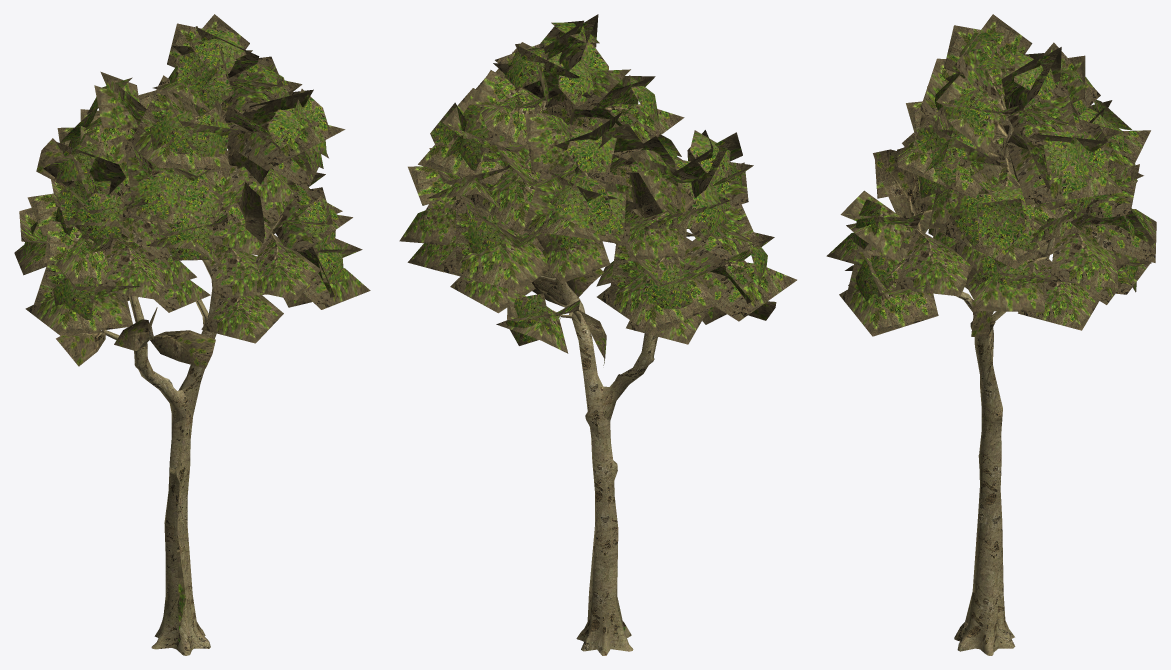
Rendered from Tree.FBX.
3 views of the same model, side by side, from view 1: azimuth 30°, elevation 25°; view 2: azimuth 150°, elevation 25°; view 3: azimuth 270°, elevation 25° (orthographic). The views are drawn at different scales.
Parts seen in each view (by area): view 1: LV_Campagna_Tree_BT08_03_PM_SMK; view 2: LV_Campagna_Tree_BT08_03_PM_SMK; view 3: LV_Campagna_Tree_BT08_03_PM_SMK.
Boxes of the visible parts, x1,y1,x2,y2 form: LV_Campagna_Tree_BT08_03_PM_SMK: (14,14,370,655); LV_Campagna_Tree_BT08_03_PM_SMK: (399,14,796,655); LV_Campagna_Tree_BT08_03_PM_SMK: (826,14,1156,655).
Size of the model in its own units: 122 by 226 by 106.
